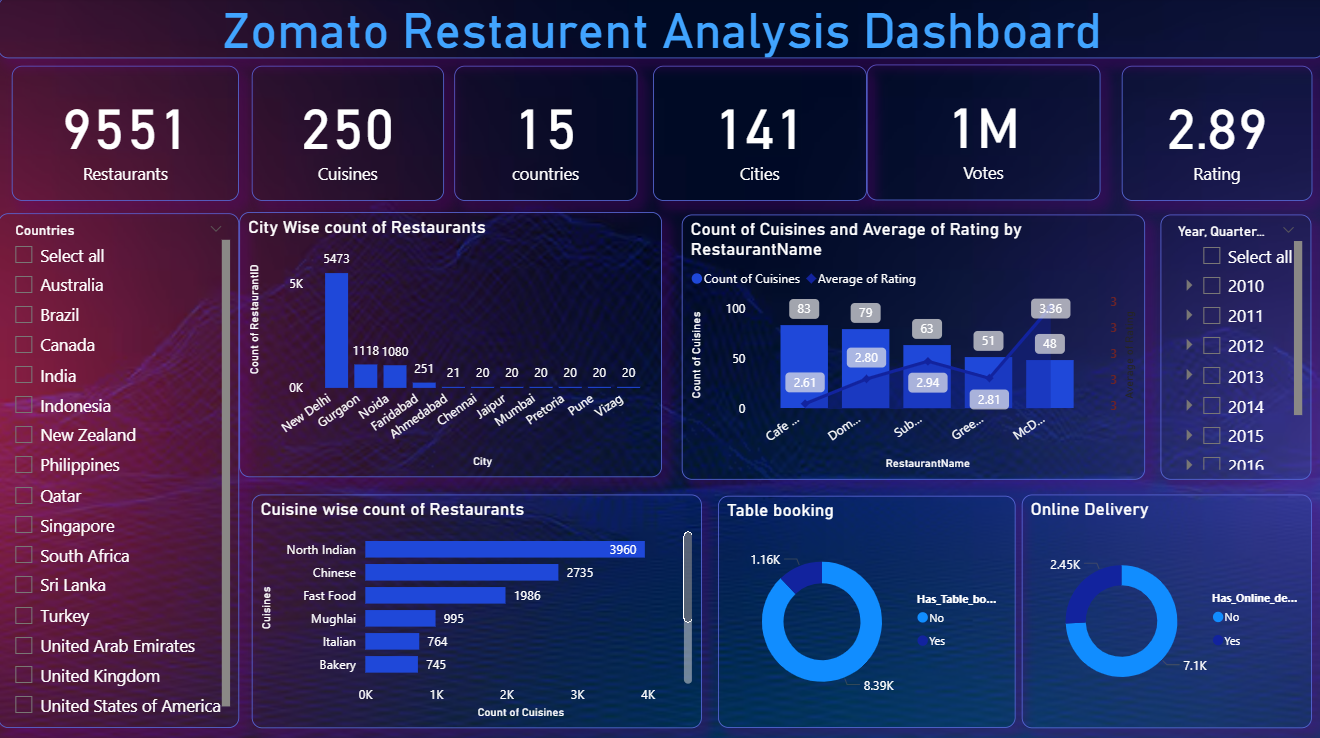

Layout of this report page (visuals, bound fields, positions):
{"tool":"powerbi","page":{"name":"Page 1","canvas":[1280,720],"ordinal":0},"visuals":[{"type":"slicer","fields":{"Values":["Sheet2.country name"]},"box":[0,208.7,232.8,497.1],"z":0},{"type":"card","fields":{"Values":["CountNonNull(Sheet2.countryID)"]},"box":[440.7,66.8,176.6,130.6],"z":1000},{"type":"card","fields":{"Values":["Count(Sheet1.Cuisines)"]},"box":[244.8,66.8,185.5,130.6],"z":2000},{"type":"card","fields":{"Values":["Count(Sheet1.RestaurantID)"]},"box":[13.4,66.8,219.6,130.6],"z":3000},{"type":"card","fields":{"Values":["Count(Sheet1.City)"]},"box":[632,66.8,206.2,130.6],"z":4000},{"type":"donutChart","title":"Table booking ","fields":{"Category":["cuisines copy.Has_Table_booking"],"Y":["CountNonNull(cuisines copy.Has_Table_booking)"]},"box":[694.9,481.4,287.1,224.4],"z":5000},{"type":"donutChart","title":"Online Delivery","fields":{"Category":["cuisines copy.Has_Online_delivery"],"Y":["CountNonNull(cuisines copy.Has_Online_delivery)"]},"box":[988.1,480.2,279.9,225.6],"z":6000},{"type":"clusteredBarChart","title":"Cuisine wise count of Restaurants","fields":{"Category":["Sheet1.Column"],"Y":["CountNonNull(Sheet1.Cuisines)"]},"box":[244.9,480.2,434.3,225.6],"z":7000},{"type":"columnChart","title":"City Wise count of Restaurants","fields":{"Category":["cuisines copy.City"],"Y":["CountNonNull(cuisines copy.RestaurantID)"]},"box":[232.8,207.5,407.8,255.8],"z":8000},{"type":"lineStackedColumnComboChart","fields":{"Category":["cuisines copy.RestaurantName"],"Y":["CountNonNull(cuisines copy.Cuisines)"],"Y2":["Avg(cuisines copy.Rating)"]},"box":[659.9,209.9,447.6,255.8],"z":9000},{"type":"slicer","title":"Years","fields":{"Values":["cuisines copy.new datekey.Variation.Date Hierarchy.Year","cuisines copy.new datekey.Variation.Date Hierarchy.Quarter","cuisines copy.new datekey.Variation.Date Hierarchy.Month","cuisines copy.new datekey.Variation.Date Hierarchy.Day"]},"box":[1122,209.9,146,255.8],"z":10000},{"type":"card","fields":{"Values":["Sum(cuisines copy.Votes)"]},"box":[838.5,65.1,225.6,131.5],"z":11000},{"type":"card","fields":{"Values":["Avg(cuisines copy.Rating)"]},"box":[1084.6,66.8,184,130.6],"z":12000},{"type":"textbox","title":"Zomato Restaurent Analysis Dashboard","box":[0,0,1280,59],"z":13000}]}

Visuals, with their boxes in screenshot pixels (x1, y1, x2, y2), scaled from the page's 1280x720 canvas onto the 1320x738 screenshot:
slicer - Sheet2.country name: 0 214 240 723
card - CountNonNull(Sheet2.countryID): 454 68 637 202
card - Count(Sheet1.Cuisines): 252 68 444 202
card - Count(Sheet1.RestaurantID): 14 68 240 202
card - Count(Sheet1.City): 652 68 864 202
"Table booking " donutChart: 717 493 1013 723
"Online Delivery" donutChart: 1019 492 1308 723
"Cuisine wise count of Restaurants" clusteredBarChart: 253 492 700 723
"City Wise count of Restaurants" columnChart: 240 213 661 475
lineStackedColumnComboChart - cuisines copy.RestaurantName x CountNonNull(cuisines copy.Cuisines): 681 215 1142 477
"Years" slicer: 1157 215 1308 477
card - Sum(cuisines copy.Votes): 865 67 1097 202
card - Avg(cuisines copy.Rating): 1118 68 1308 202
"Zomato Restaurent Analysis Dashboard" textbox: 0 0 1319 60
